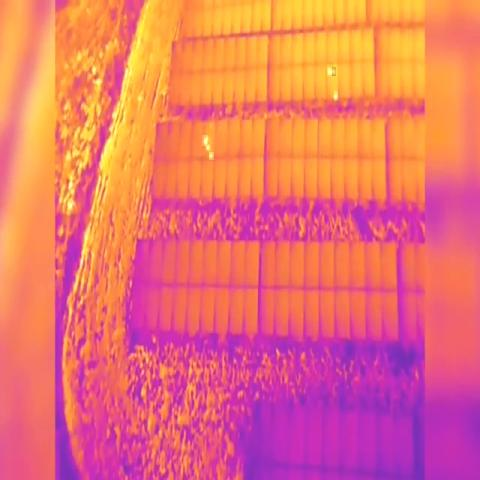fault: (202, 135, 208, 146), (327, 67, 332, 76), (209, 152, 214, 160), (334, 91, 338, 101), (332, 67, 336, 76), (206, 144, 210, 152)
